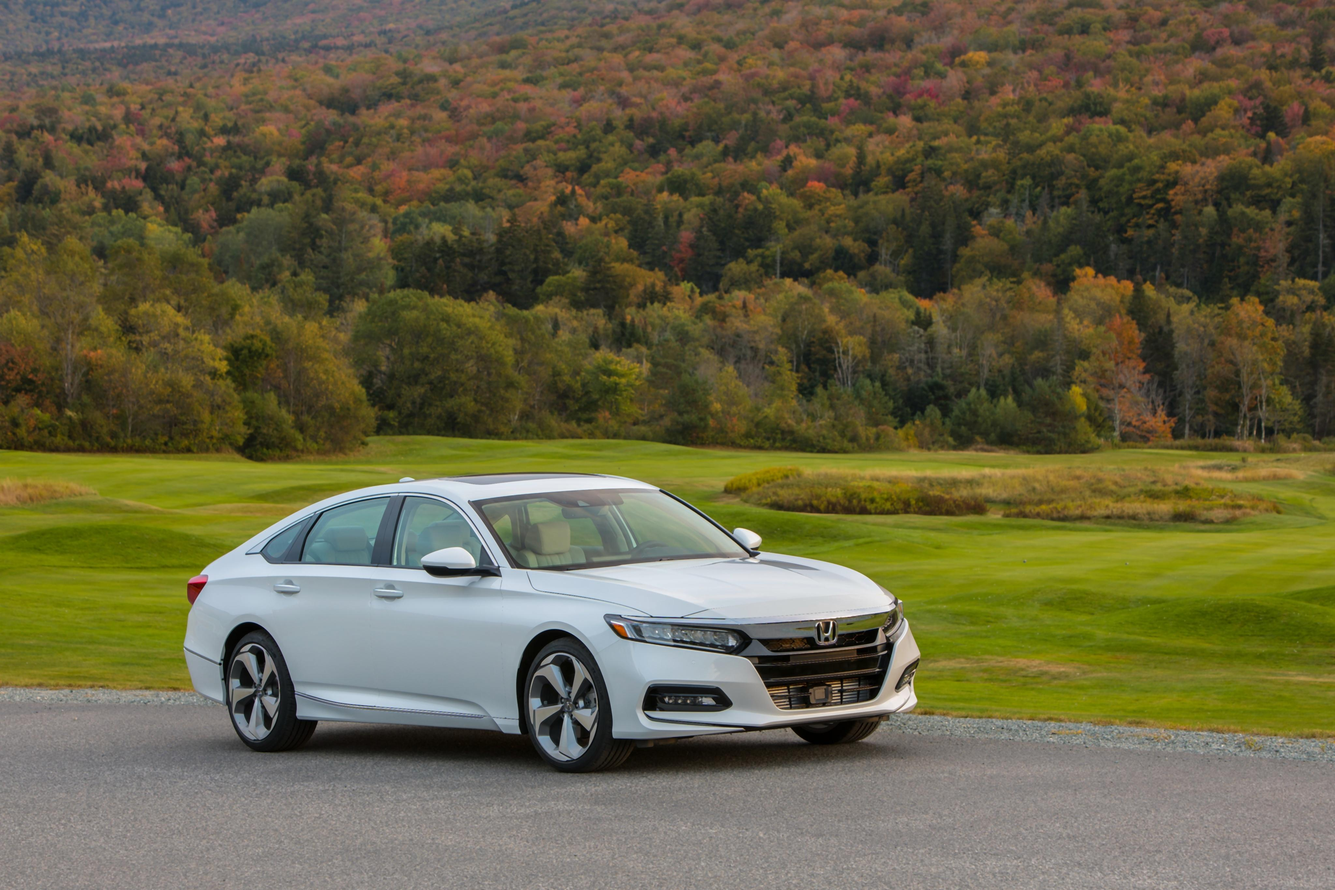Car hood: (520, 546, 908, 621)
Driver-s door - -F-R-: (364, 481, 511, 721)
Fender - -F-R-: (474, 561, 633, 682)
Fender - -R-R-: (183, 546, 272, 652)
Front bumper: (598, 624, 933, 746)
Headlight - -L-: (878, 592, 905, 647)
Headlight - -R-: (606, 611, 748, 657)
Passenger-s door - -R-R-: (261, 474, 401, 718)
Rear bumper: (170, 623, 232, 710)
Rear light - -R-: (180, 567, 217, 608)
Side bumper - -R-: (285, 680, 516, 754)
Side mirror - -L-: (729, 522, 768, 558)
Side mirror - -R-: (416, 544, 483, 584)
